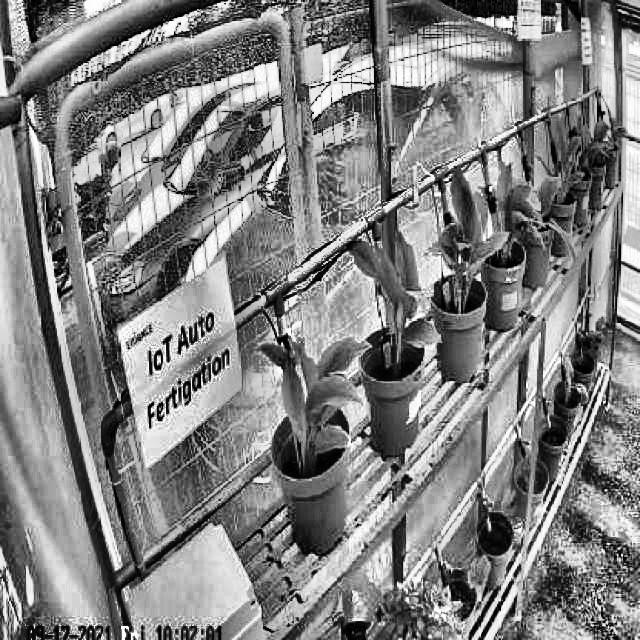plants: (255, 337, 372, 460), (346, 233, 442, 361), (428, 164, 507, 284), (487, 157, 542, 256), (554, 127, 586, 204)
